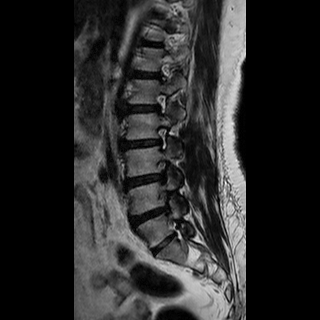RFS0: (146, 121, 172, 154), (145, 88, 172, 119)
RFS3: (147, 156, 175, 189)
